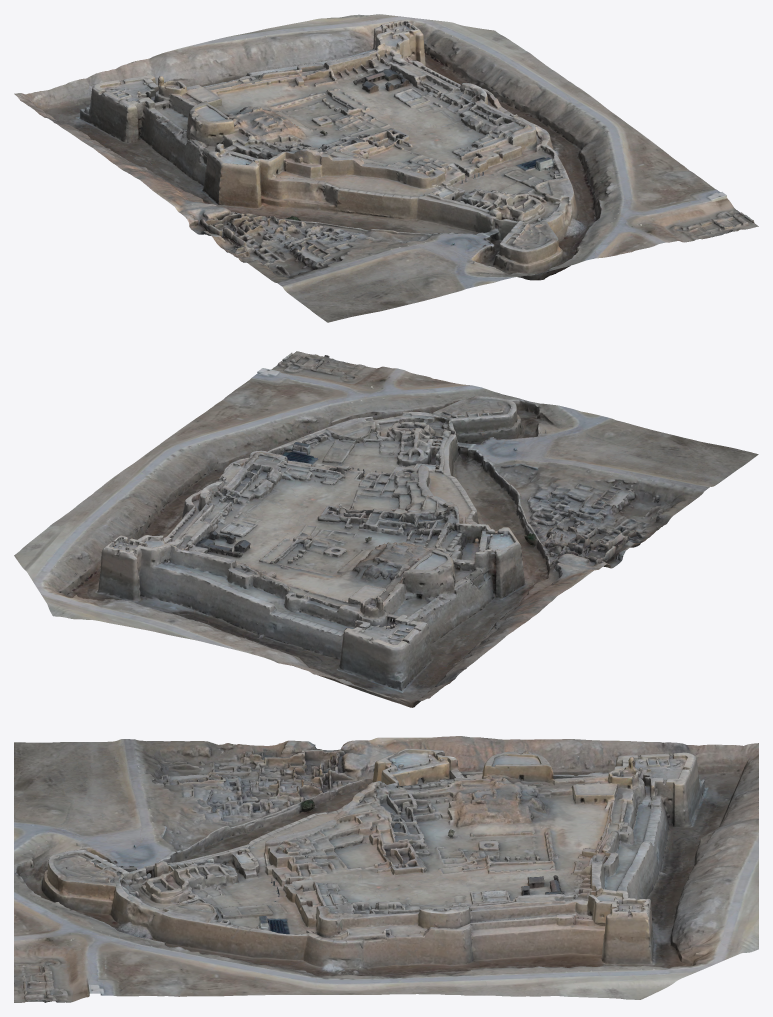
3 renders of one model, top to bottom at view 1: azimuth 30°, elevation 25°; view 2: azimuth 150°, elevation 25°; view 3: azimuth 270°, elevation 25°, orthographic. The views are drawn at different scales.
Parts seen in each view (by area): view 1: BHR_001_M1_QalatAlBahrain; view 2: BHR_001_M1_QalatAlBahrain; view 3: BHR_001_M1_QalatAlBahrain.
Boxes of the visible parts, box(x1,y1,x2,y2) form: BHR_001_M1_QalatAlBahrain: box(14, 14, 758, 322); BHR_001_M1_QalatAlBahrain: box(14, 351, 758, 707); BHR_001_M1_QalatAlBahrain: box(14, 736, 758, 1002).
Bounding box in the file's own units: 18.64 × 2.16 × 23.48.
Materials: 1 (1 with a texture image).
